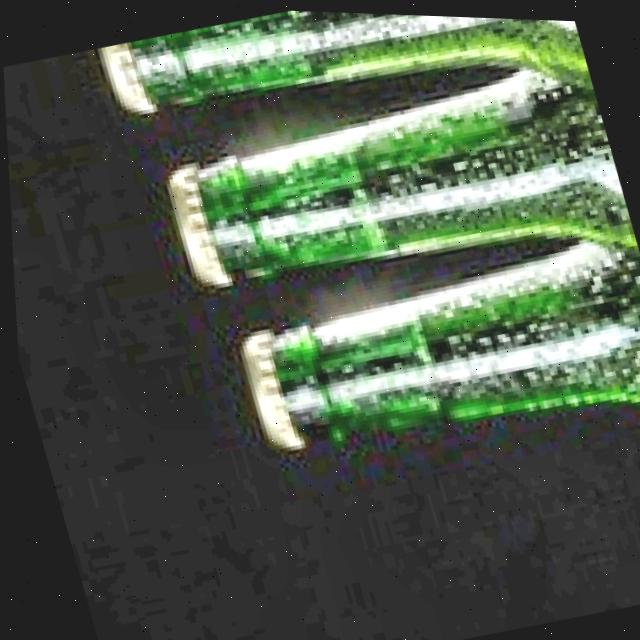glass: (187, 5, 640, 506)
metal: (222, 326, 296, 455), (158, 157, 226, 295), (96, 39, 146, 122)
